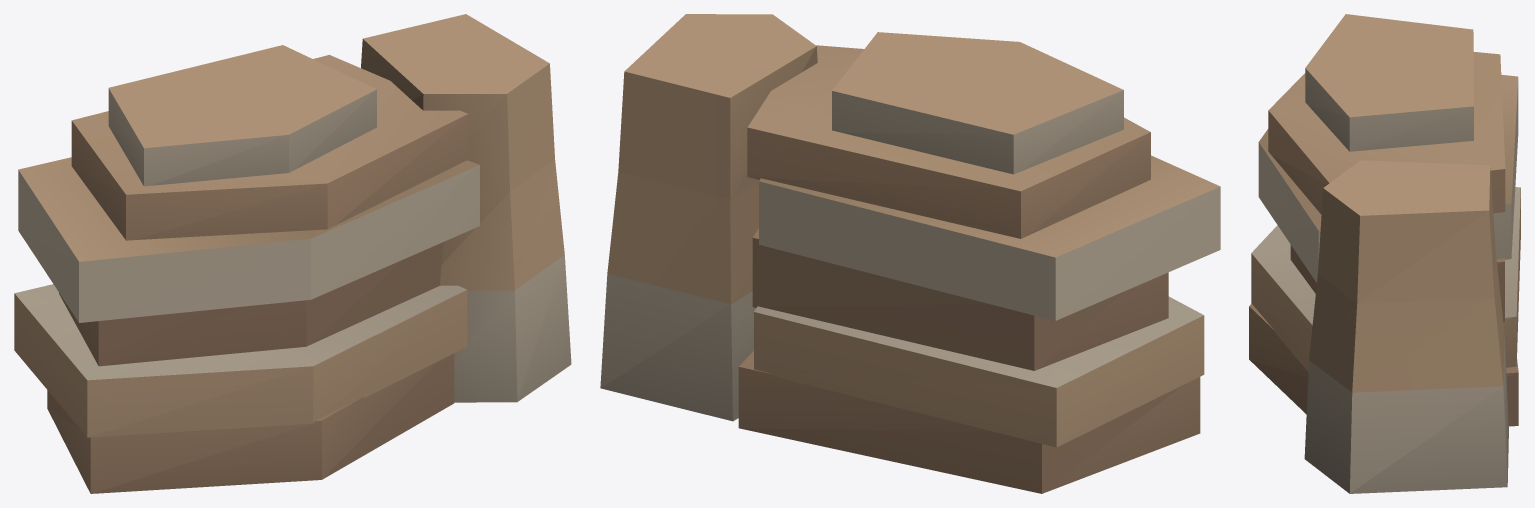
File: outcrop.lod2.glb
3 views of the same model, side by side, from view 1: azimuth 30°, elevation 25°; view 2: azimuth 150°, elevation 25°; view 3: azimuth 270°, elevation 25° (orthographic). The views are drawn at different scales.
Size of the model in its own units: 5.58 by 3.38 by 2.86.
